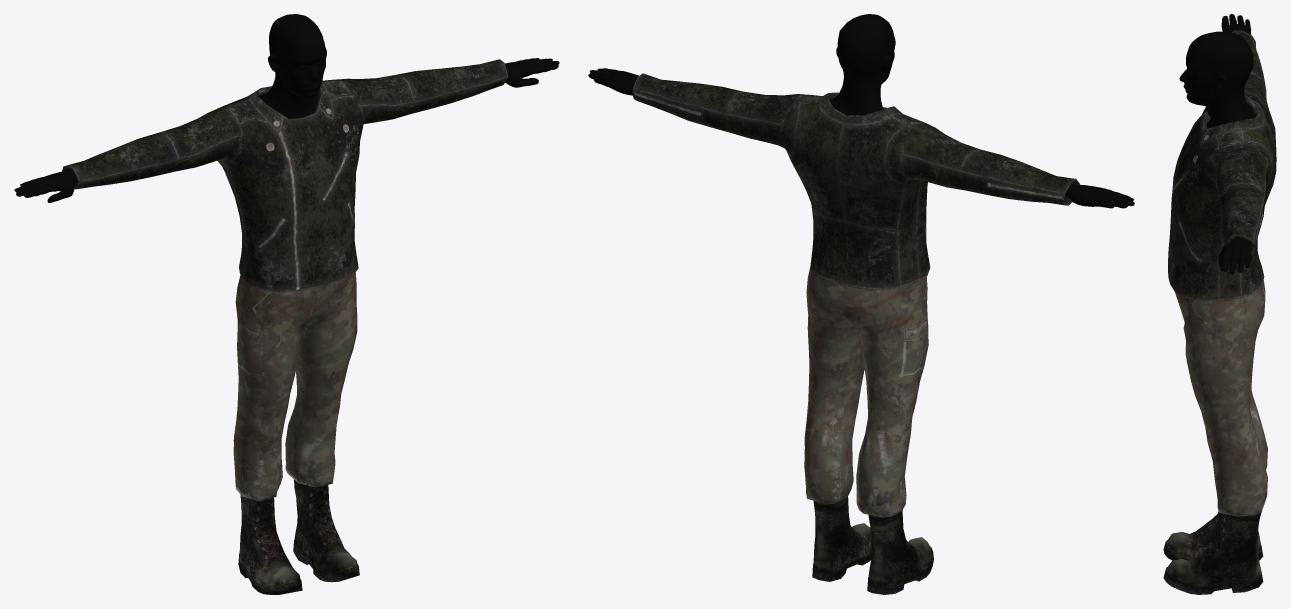
The model's file is military_clothingpost-apocalypse.download.glb.
3 renders of one model, left to right at view 1: azimuth 30°, elevation 25°; view 2: azimuth 150°, elevation 25°; view 3: azimuth 270°, elevation 25°, orthographic. The views are drawn at different scales.
Visible parts, largest first — view 1: jacket, trousers, base_obj, boots_l, boots_r; view 2: jacket, trousers, base_obj, boots_l, boots_r; view 3: jacket, trousers, base_obj, boots_r, boots_l.
Boxes of the visible parts, x1=… form: jacket: x1=62, y1=59, x2=508, y2=292; trousers: x1=233, y1=273, x2=357, y2=501; base_obj: x1=14, y1=14, x2=559, y2=202; boots_l: x1=238, y1=494, x2=302, y2=594; boots_r: x1=293, y1=480, x2=359, y2=582; jacket: x1=632, y1=73, x2=1080, y2=290; trousers: x1=804, y1=267, x2=928, y2=517; base_obj: x1=588, y1=14, x2=1134, y2=208; boots_l: x1=867, y1=510, x2=933, y2=594; boots_r: x1=812, y1=496, x2=871, y2=581; jacket: x1=1168, y1=30, x2=1276, y2=301; trousers: x1=1175, y1=280, x2=1267, y2=516; base_obj: x1=1179, y1=14, x2=1256, y2=274; boots_r: x1=1163, y1=512, x2=1263, y2=594; boots_l: x1=1163, y1=511, x2=1263, y2=560.
Size of the model in its own units: 1.9 by 1.85 by 0.3511.
Materials: 4 (3 with a texture image).
